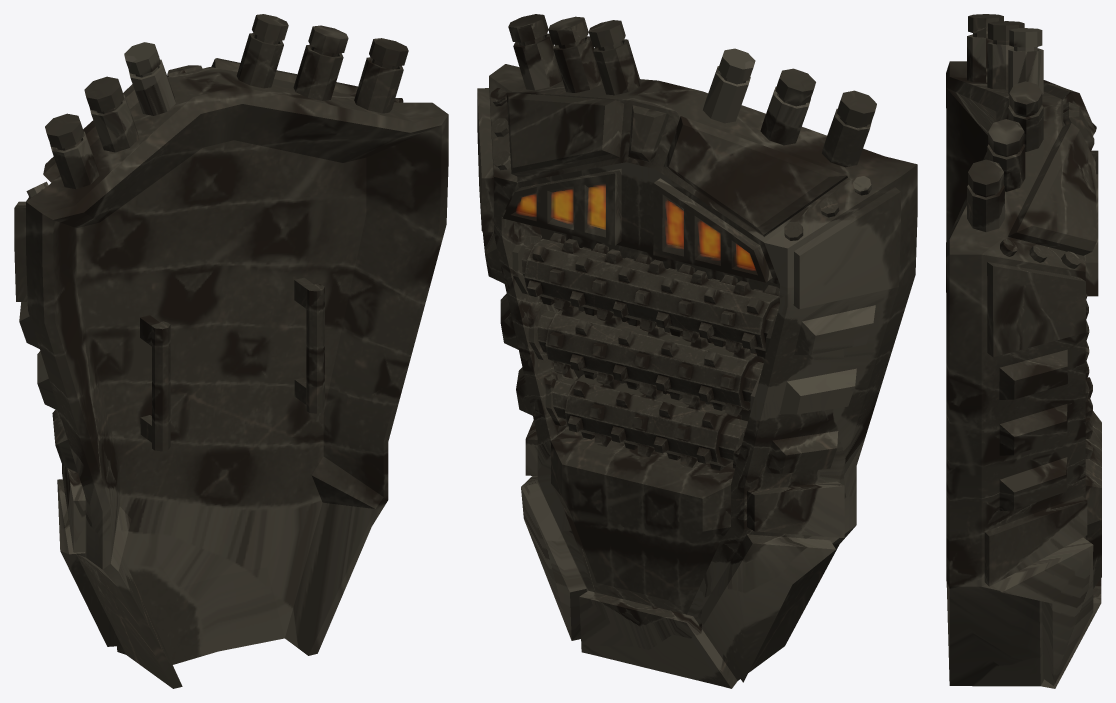
The model's file is Maw_Shield.fbx.
The picture shows the model from 3 angles, left to right: view 1: azimuth 30°, elevation 25°; view 2: azimuth 150°, elevation 25°; view 3: azimuth 270°, elevation 25°; orthographic projection. The views are drawn at different scales.
Parts seen in each view (by area): view 1: ShieldMaw; view 2: ShieldMaw, Grinder, Grinder.001, Grinder.002; view 3: ShieldMaw, Grinder.002.
Boxes of the visible parts, x1,y1,x2,y2 form: ShieldMaw: (14, 14, 448, 688); ShieldMaw: (477, 14, 917, 688); Grinder: (521, 232, 779, 357); Grinder.001: (537, 304, 764, 416); Grinder.002: (552, 374, 747, 470); ShieldMaw: (946, 14, 1101, 688); Grinder.002: (1085, 377, 1092, 458).
Bounding box in the file's own units: 1699 × 2383 × 563.
